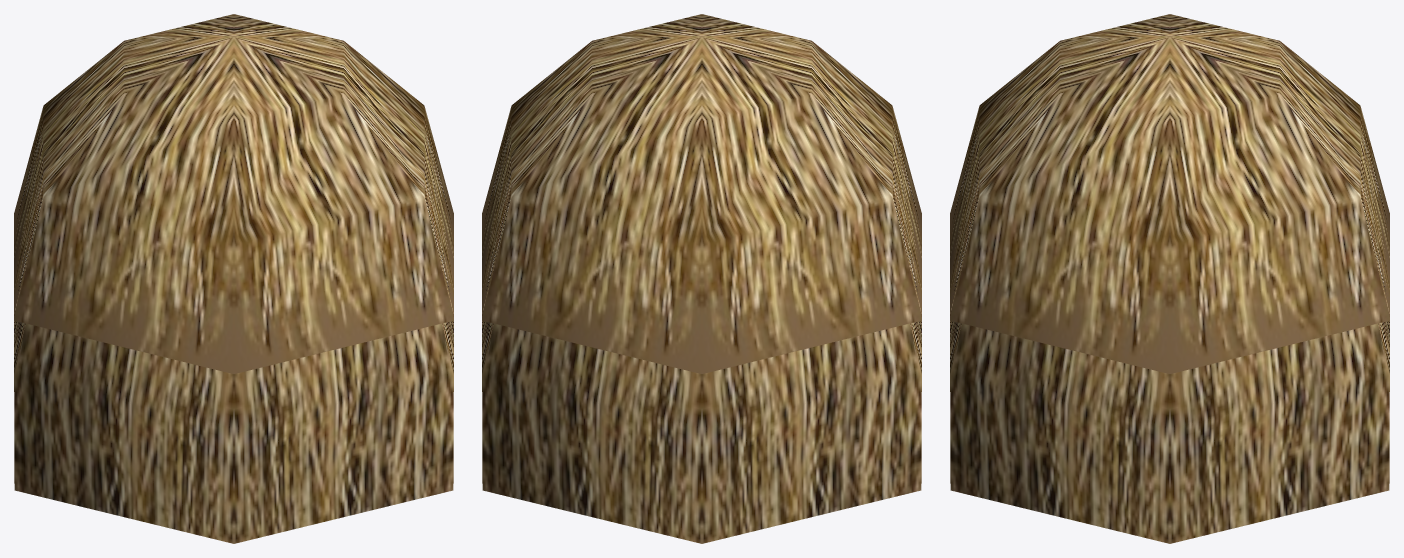
File: haystack.fbx
3 renders of one model, left to right at view 1: azimuth 30°, elevation 25°; view 2: azimuth 150°, elevation 25°; view 3: azimuth 270°, elevation 25°, orthographic.
Visible parts, largest first — view 1: hay_top, hay_bottom; view 2: hay_top, hay_bottom; view 3: hay_top, hay_bottom.
Boxes of the visible parts, bbox=[...] form: hay_top: bbox=[14, 14, 453, 373]; hay_bottom: bbox=[14, 320, 453, 543]; hay_top: bbox=[482, 14, 921, 373]; hay_bottom: bbox=[482, 320, 921, 543]; hay_top: bbox=[950, 14, 1389, 373]; hay_bottom: bbox=[950, 320, 1389, 543].
Size of the model in its own units: 400 by 348 by 346.
1 material, 1 textured.
